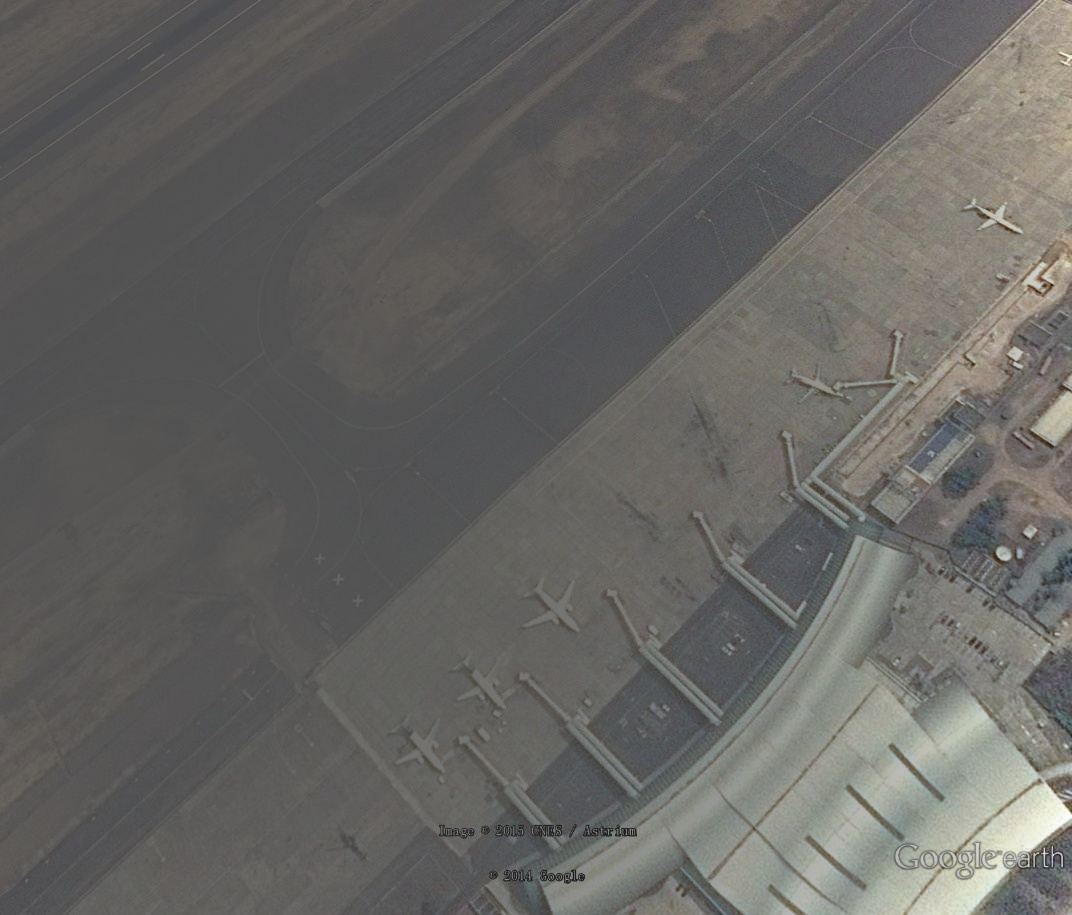aircraft: (388, 712, 448, 777), (520, 578, 583, 638), (449, 654, 509, 715), (962, 196, 1024, 237), (785, 362, 840, 403), (1058, 49, 1072, 67), (352, 594, 365, 610), (314, 553, 327, 568), (333, 574, 345, 588)
